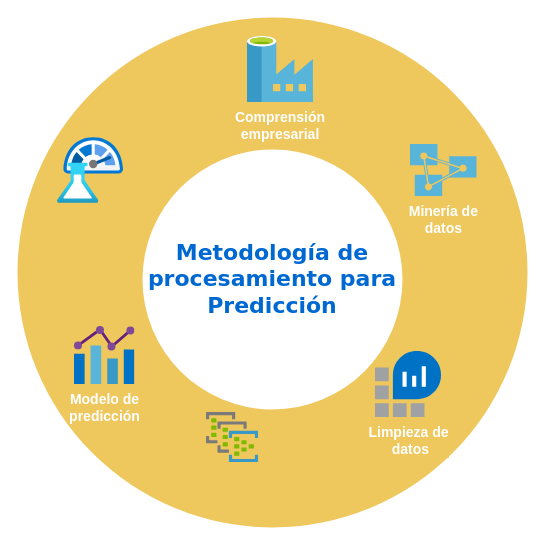
This 544x544 diagram has some shape labels left out. Here are the shapes that lost their labels. From the top down, the box of each, then its label:
(57, 137, 123, 203): Visualización de datos
(206, 412, 258, 462): Exploración de datos
